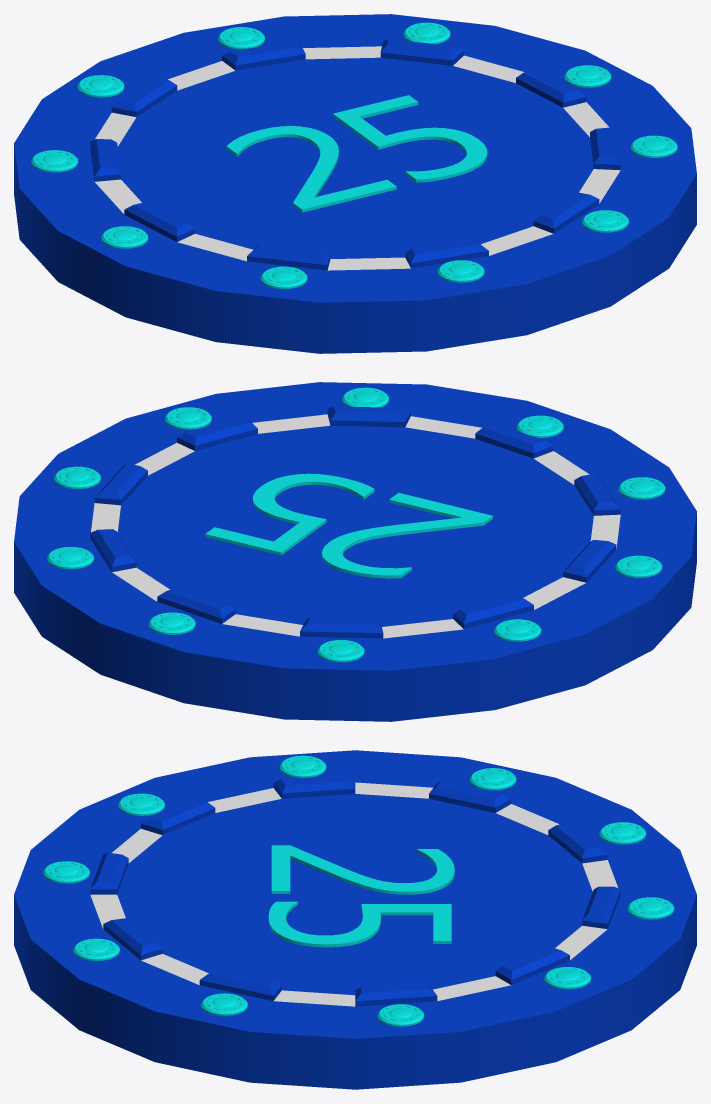
Rendered from poker25.fbx.
3 views of the same model, one above another, from view 1: azimuth 30°, elevation 25°; view 2: azimuth 150°, elevation 25°; view 3: azimuth 270°, elevation 25° (orthographic).
Visible parts, largest first — view 1: pCylinder1, pCylinder12, polySurface9, polySurface8; view 2: pCylinder1, pCylinder12, polySurface8, polySurface9; view 3: pCylinder1, pCylinder12, polySurface9, polySurface8.
Part boxes in pixels (x1,y1,x2,y2): pCylinder1: [14, 14, 696, 353]; pCylinder12: [31, 22, 677, 288]; polySurface9: [333, 95, 487, 182]; polySurface8: [226, 126, 396, 212]; pCylinder1: [14, 382, 696, 721]; pCylinder12: [47, 387, 665, 662]; polySurface8: [322, 492, 492, 578]; polySurface9: [205, 473, 374, 555]; pCylinder1: [14, 750, 696, 1089]; pCylinder12: [43, 755, 674, 1026]; polySurface9: [268, 901, 451, 947]; polySurface8: [271, 845, 454, 894].
Size of the model in its own units: 2.1 by 0.2076 by 2.1.
